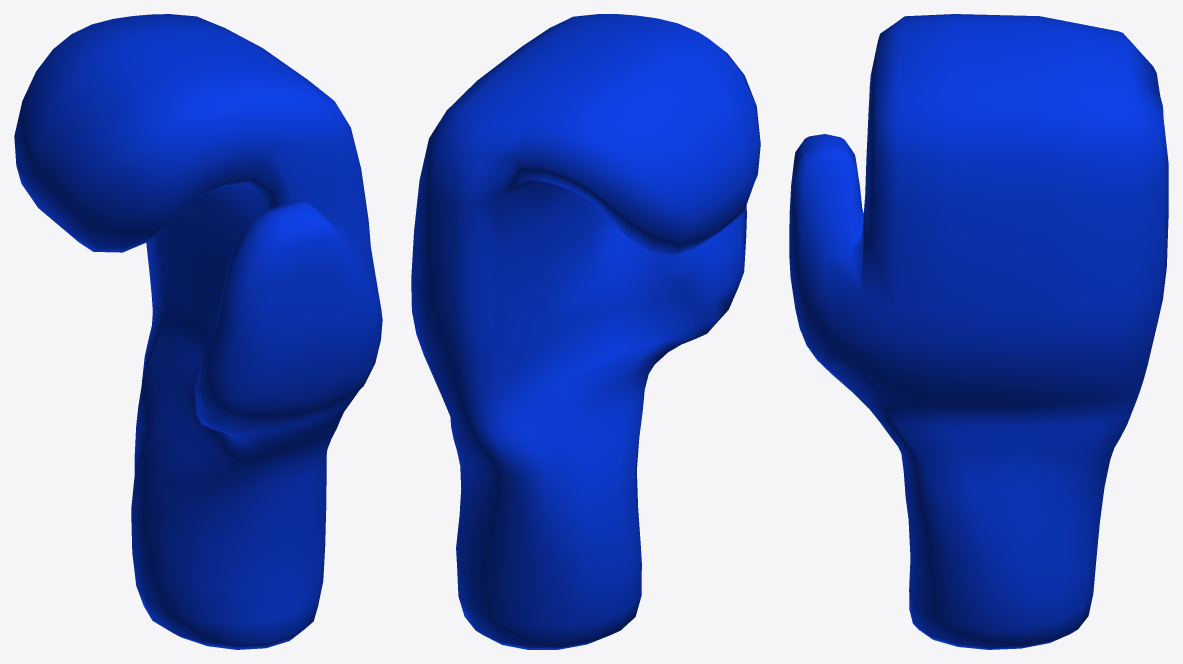
The model's file is RIGHT HAND.fbx.
3 renders of one model, left to right at view 1: azimuth 30°, elevation 25°; view 2: azimuth 150°, elevation 25°; view 3: azimuth 270°, elevation 25°, orthographic. The views are drawn at different scales.
Parts seen in each view (by area): view 1: RIGHT HAND; view 2: RIGHT HAND; view 3: RIGHT HAND.
Boxes of the visible parts, x1,y1,x2,y2 form: RIGHT HAND: (14,14,382,649); RIGHT HAND: (411,14,760,649); RIGHT HAND: (789,14,1168,649).
Bounding box in the file's own units: 431 × 860 × 527.
